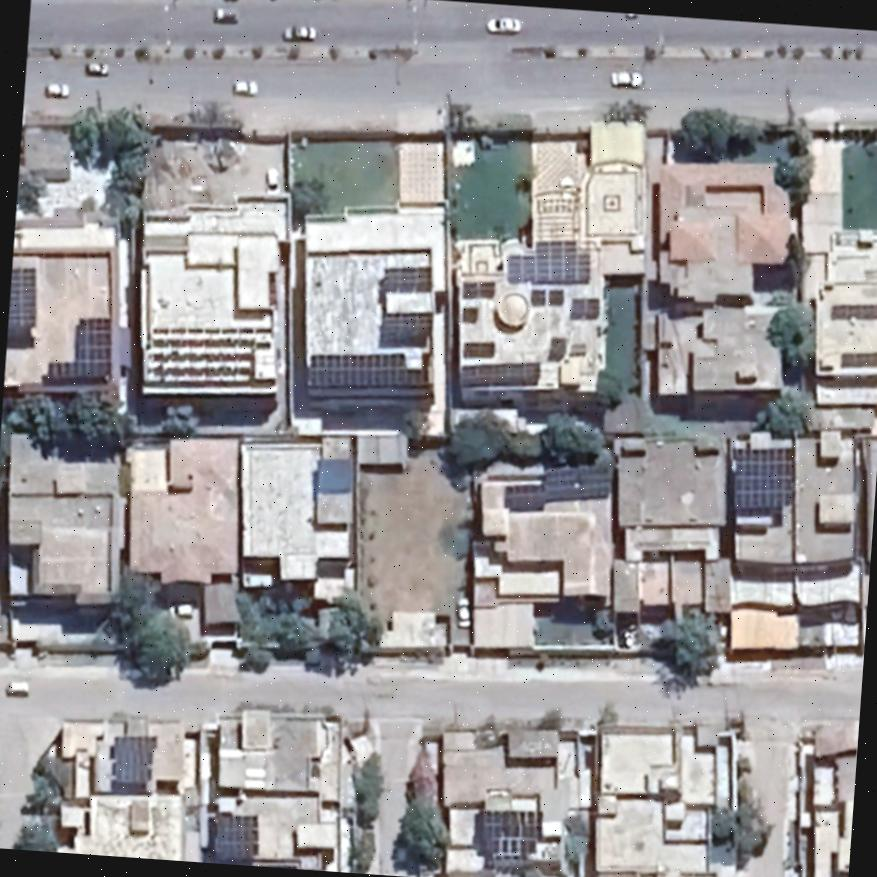Solarpanel: (303, 349, 435, 392), (36, 316, 113, 385), (732, 443, 800, 511), (473, 805, 543, 866), (500, 243, 591, 284), (103, 730, 155, 783), (207, 811, 262, 858), (376, 308, 433, 348), (376, 263, 441, 293), (8, 266, 38, 331), (461, 334, 494, 359), (457, 280, 496, 300), (543, 333, 568, 362), (528, 285, 564, 305), (571, 296, 601, 319), (457, 305, 477, 323)
